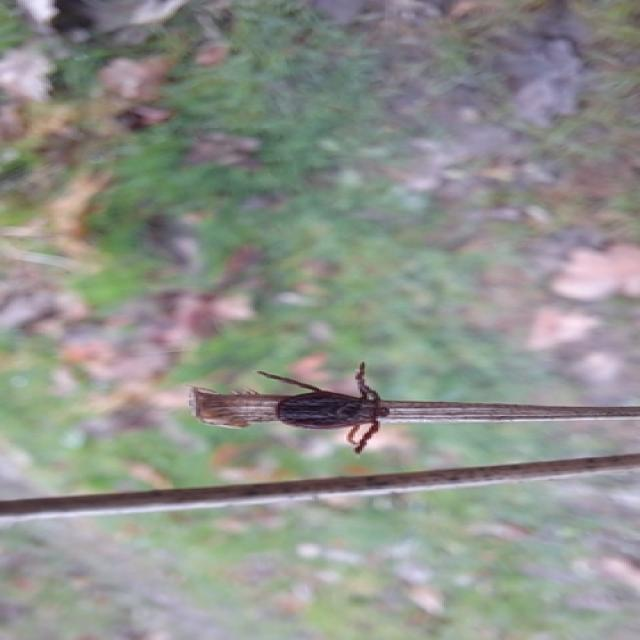Dermacentor Reticulatus-F: (257, 362, 389, 454)
